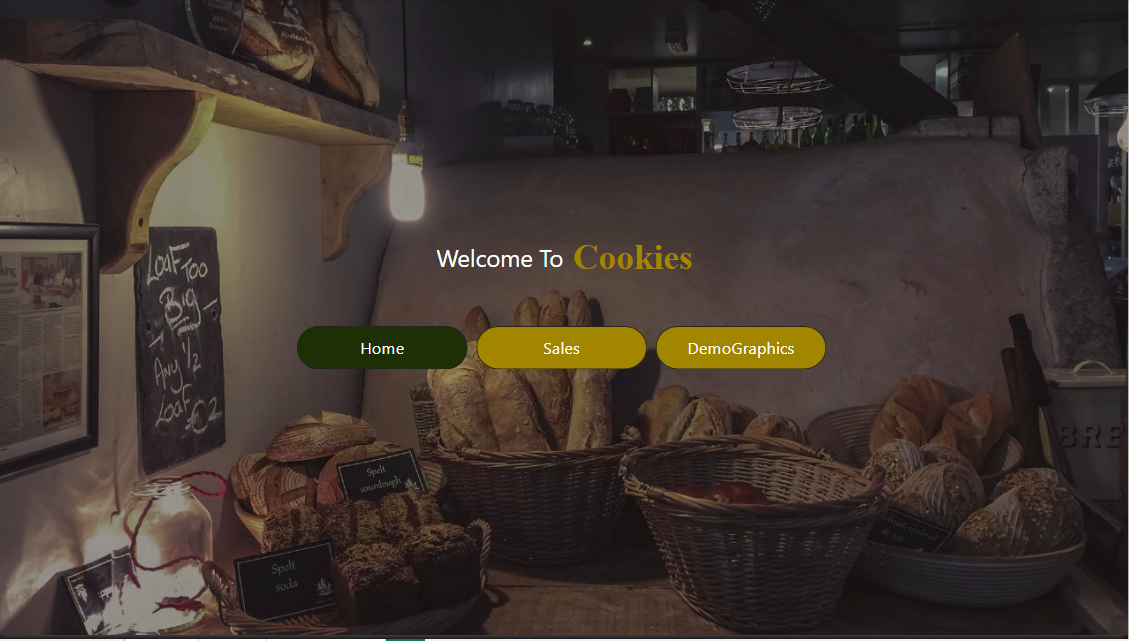

The dashboard page shown, as its layout file describes it:
{"tool":"powerbi","page":{"name":"Home","canvas":[1280,720],"ordinal":0},"visuals":[{"type":"pageNavigator","box":[339.5,370.5,599.6,49.9],"z":0},{"type":"shape","box":[339.5,259.2,301,65.6],"z":1000},{"type":"shape","box":[651.9,259.2,301,65.6],"z":2000}]}

Visuals, with their boxes in screenshot pixels (x1, y1, x2, y2), scaled from the page's 1280x720 canvas onto the 1130x641 screenshot:
pageNavigator: {"x1": 300, "y1": 330, "x2": 829, "y2": 374}
shape: {"x1": 300, "y1": 231, "x2": 565, "y2": 289}
shape: {"x1": 576, "y1": 231, "x2": 841, "y2": 289}
